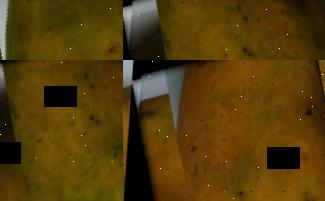PartiallyRipe: (0, 60, 123, 201), (123, 0, 325, 60), (0, 0, 123, 60)
Ripe: (130, 60, 325, 201)
